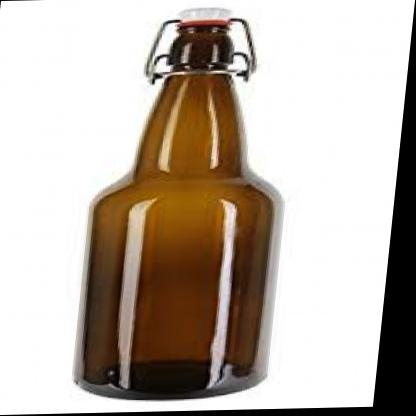trash: (75, 9, 281, 398)
